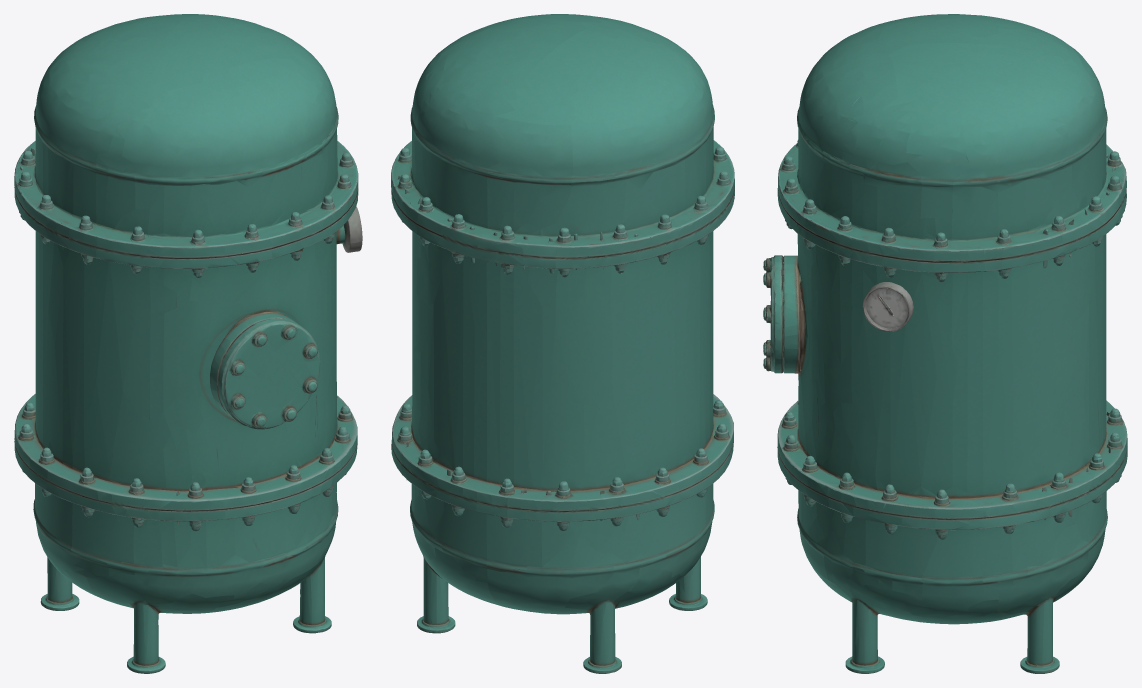
Rendered from filtro_tondo.glb.
3 renders of one model, left to right at view 1: azimuth 30°, elevation 25°; view 2: azimuth 150°, elevation 25°; view 3: azimuth 270°, elevation 25°, orthographic.
Visible parts, largest first — view 1: Mesh_0; view 2: Mesh_0; view 3: Mesh_0.
Boxes of the visible parts, left/top/right/bottom form: Mesh_0: left=14, top=14, right=362, bottom=673; Mesh_0: left=391, top=14, right=734, bottom=673; Mesh_0: left=763, top=14, right=1127, bottom=673.
Size of the model in its own units: 1.04 by 1.9 by 1.08.
1 material, 1 textured.
